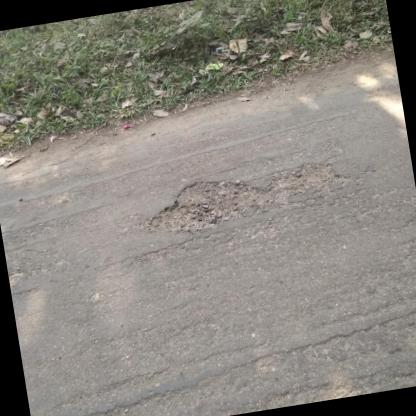pothole: (135, 153, 348, 239)
